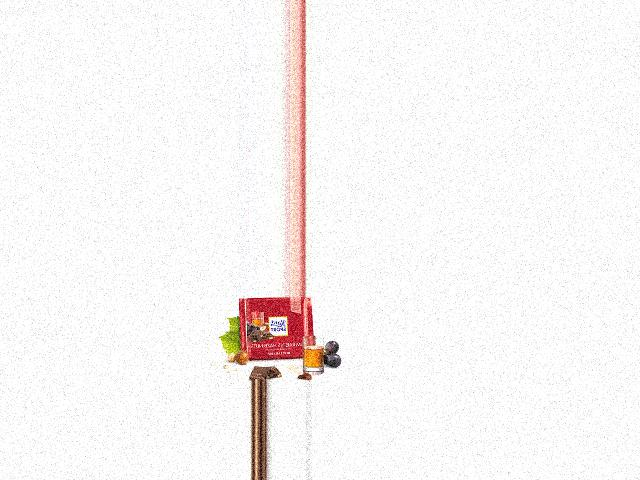chocolate: (236, 298, 311, 360)
